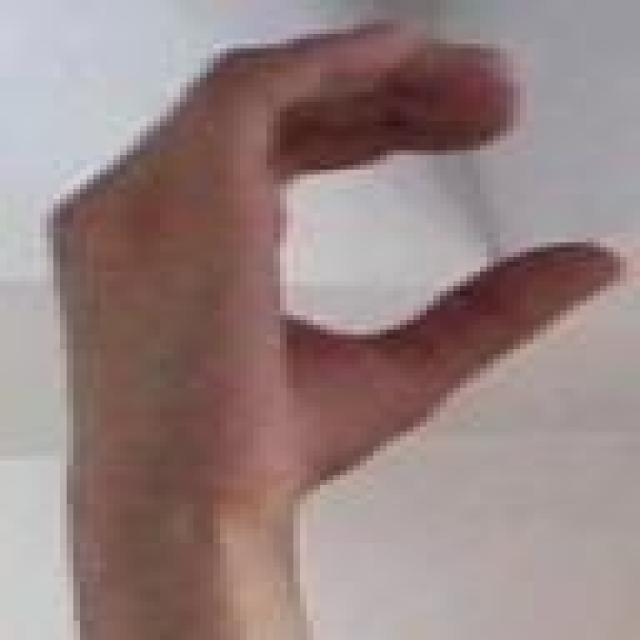C: (4, 0, 640, 506)
